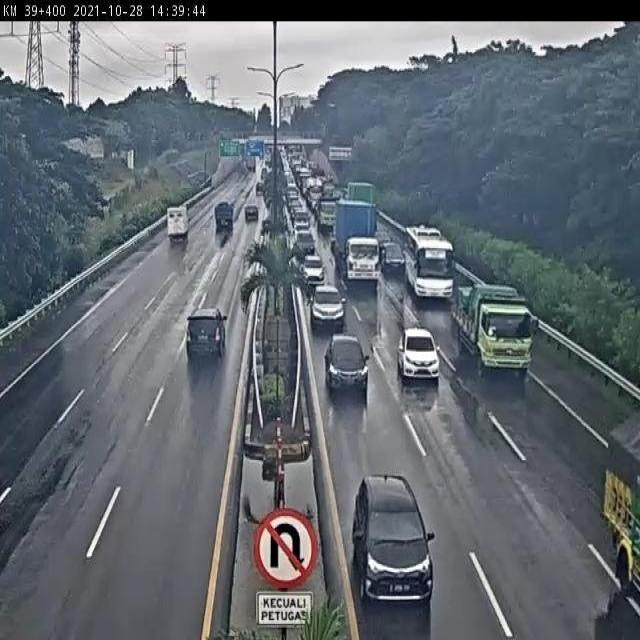Car: (352, 471, 438, 618), (324, 332, 374, 399), (398, 326, 442, 386), (184, 302, 228, 361), (311, 284, 344, 331), (300, 254, 328, 288), (380, 242, 406, 276), (295, 233, 316, 255), (243, 204, 260, 223), (293, 214, 310, 232), (254, 182, 267, 194)
Truck: (453, 283, 540, 378), (601, 399, 640, 604), (331, 200, 381, 296), (345, 179, 379, 227), (164, 206, 192, 244), (316, 198, 340, 235), (215, 202, 237, 235)
